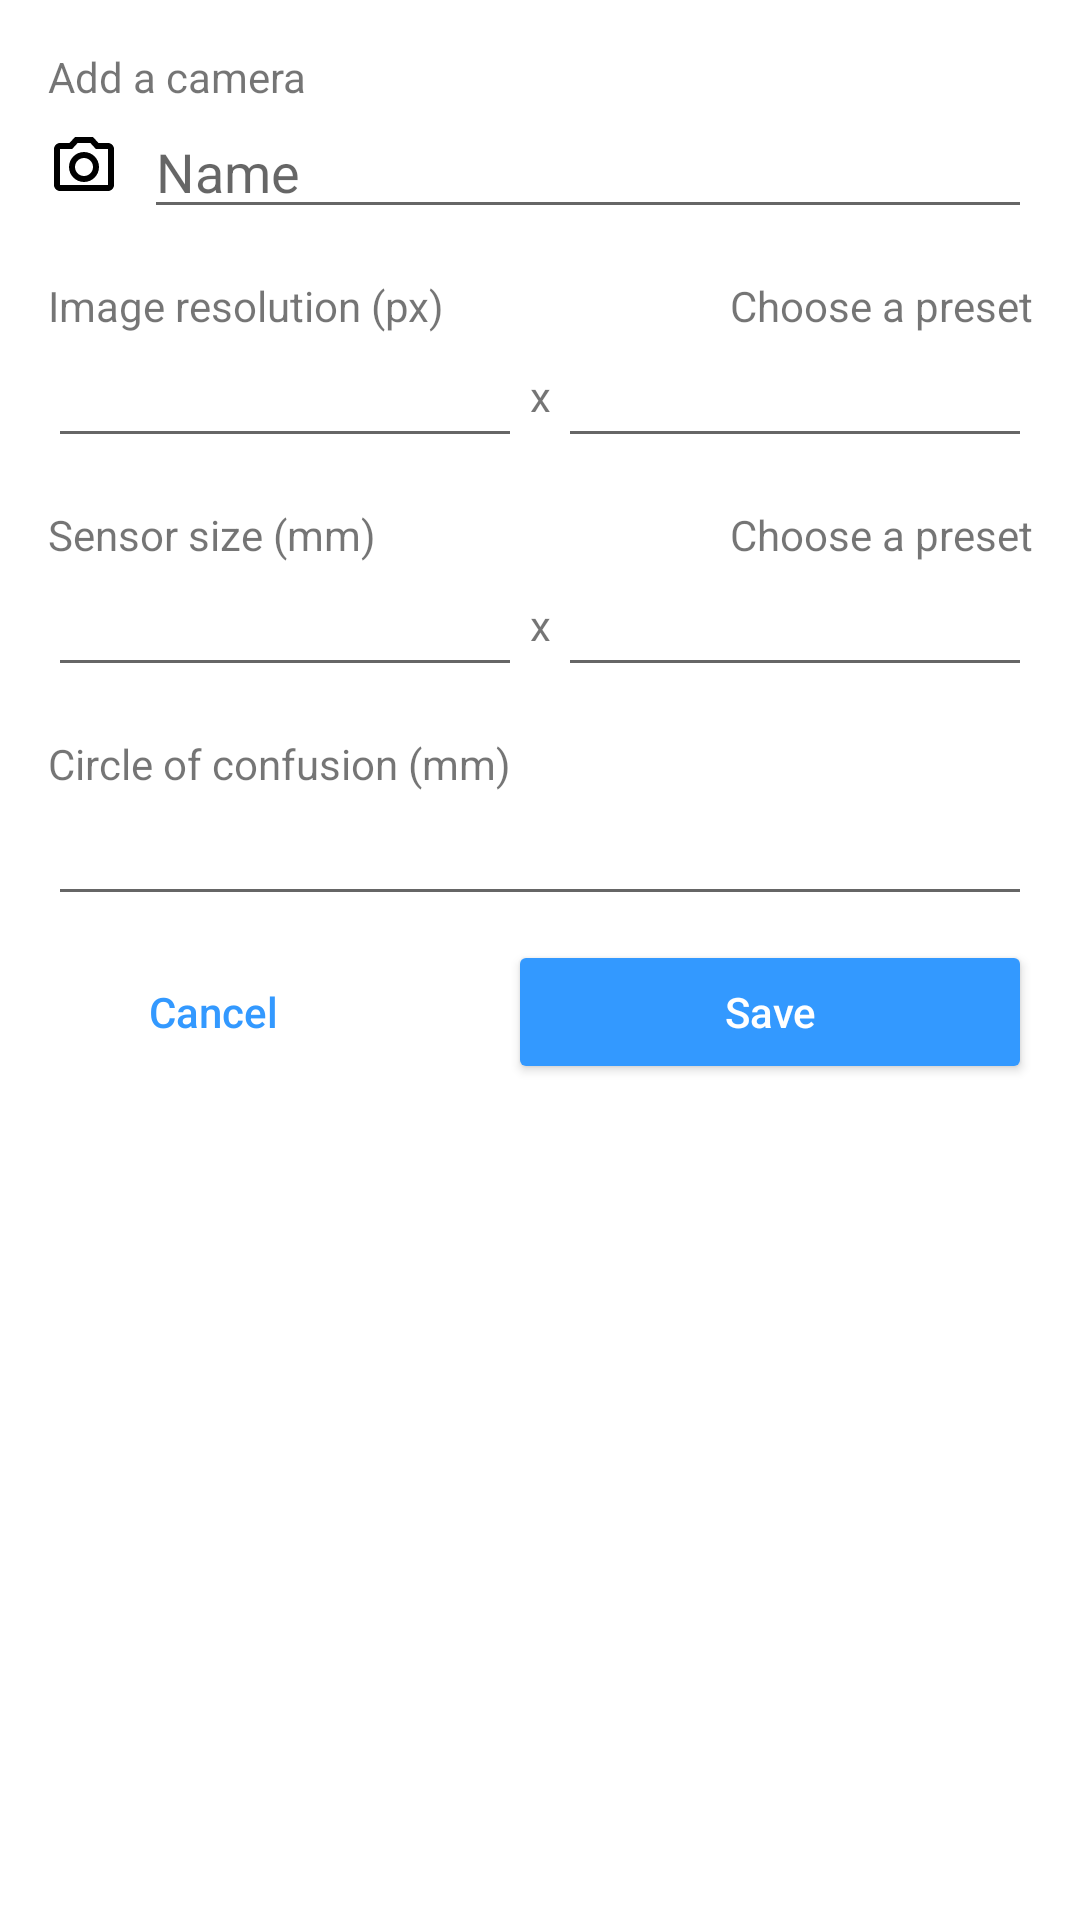

Screen size 1080*1920. Icon name, then its box in pixels as (x1, y1, x2, y2):
Choose an icon: (54, 137, 114, 191)
